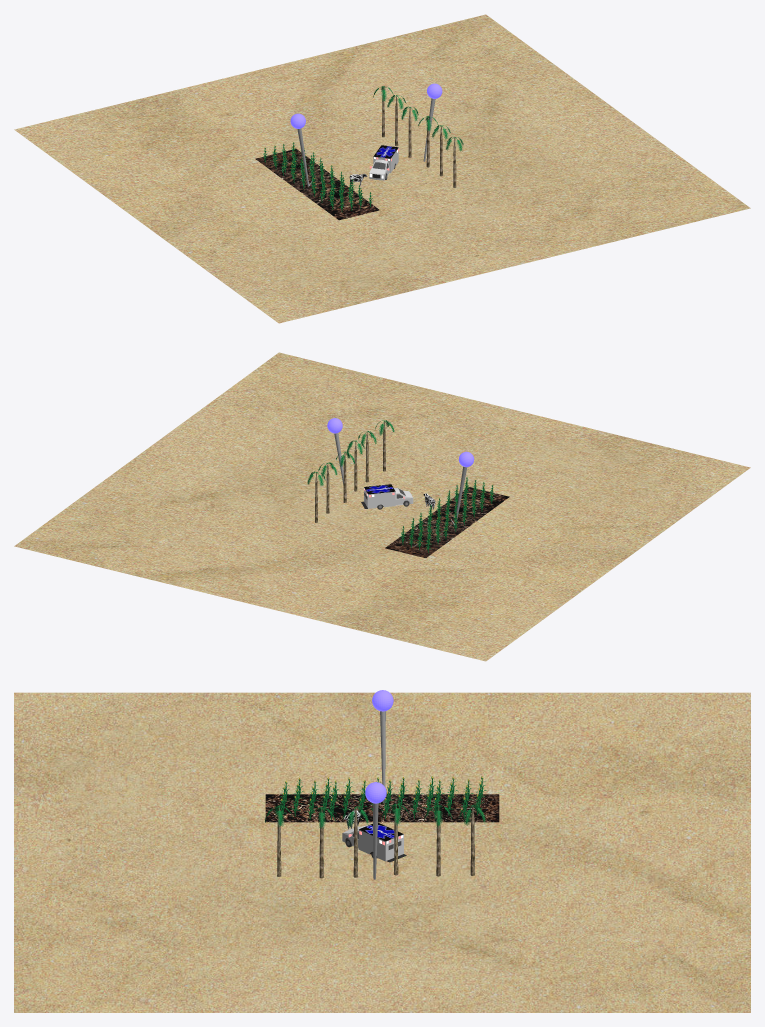
Rendered from about.glb.
3 views of the same model, one above another, from view 1: azimuth 30°, elevation 25°; view 2: azimuth 150°, elevation 25°; view 3: azimuth 270°, elevation 25° (orthographic). The views are drawn at different scales.
Visible parts, largest first — view 1: corn soil; view 2: corn soil; view 3: corn soil.
Part boxes in pixels (bbox=[...]): corn soil: bbox=[14, 14, 750, 323]; corn soil: bbox=[14, 352, 750, 661]; corn soil: bbox=[14, 690, 750, 1012].
Bounding box in the file's own units: 128 × 19.8 × 125.
Materials: 17 (6 with a texture image).
